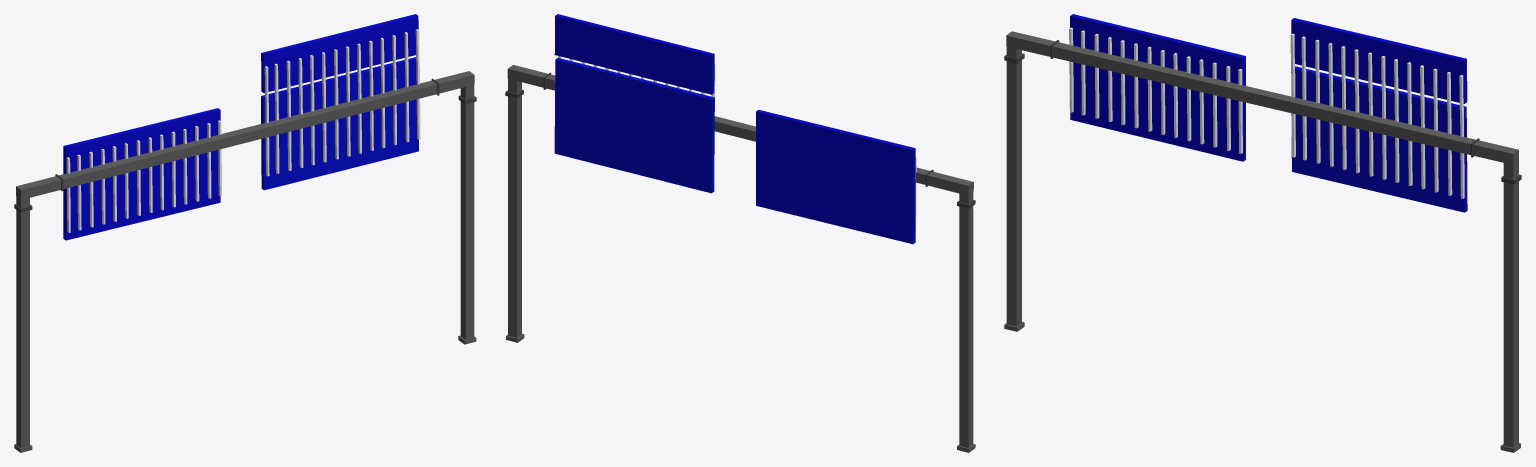
File: sign_gantry.glb
3 renders of one model, left to right at view 1: azimuth 30°, elevation 25°; view 2: azimuth 150°, elevation 25°; view 3: azimuth 330°, elevation 25°, orthographic. The views are drawn at different scales.
Visible parts, largest first — view 1: body; view 2: body; view 3: body.
Part boxes in pixels (x1,y1,x2,y2): body: [14, 14, 476, 452]; body: [505, 14, 975, 452]; body: [1004, 14, 1521, 452].
Bounding box in the file's own units: 10.59 × 7.4 × 0.3762.
